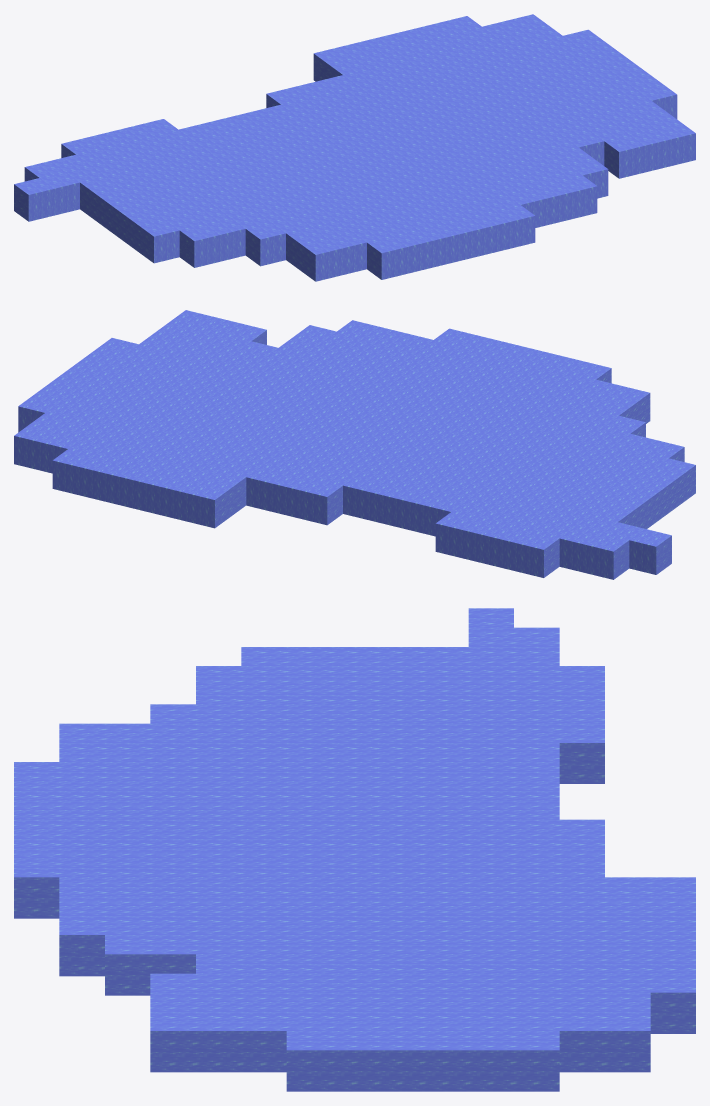
The model's file is rio4.fbx.
3 renders of one model, top to bottom at view 1: azimuth 30°, elevation 25°; view 2: azimuth 150°, elevation 25°; view 3: azimuth 270°, elevation 25°, orthographic. The views are drawn at different scales.
Parts seen in each view (by area): view 1: Cube; view 2: Cube; view 3: Cube.
Part boxes in pixels (box(x1,y1,x2,y2)): Cube: box(14, 14, 695, 281); Cube: box(14, 310, 695, 579); Cube: box(14, 608, 695, 1091).
Size of the model in its own units: 2300 by 100 by 1500.
